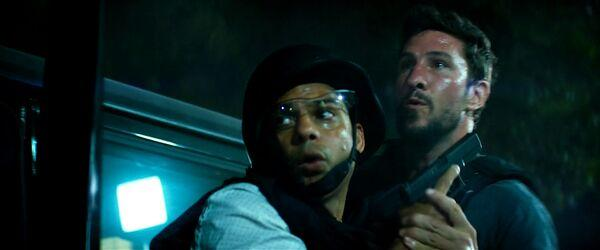Gun: (401, 131, 483, 206)
